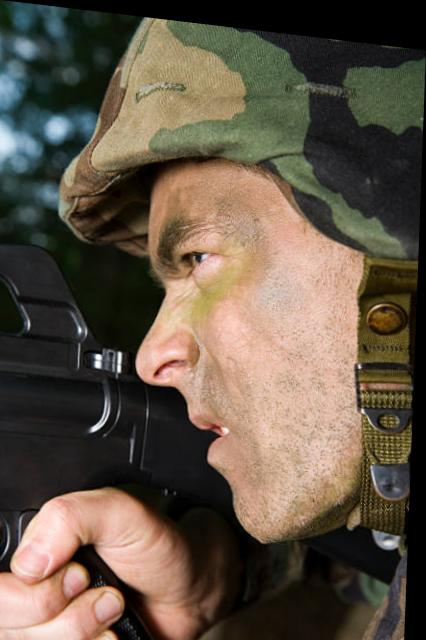other: (17, 74, 422, 640)
